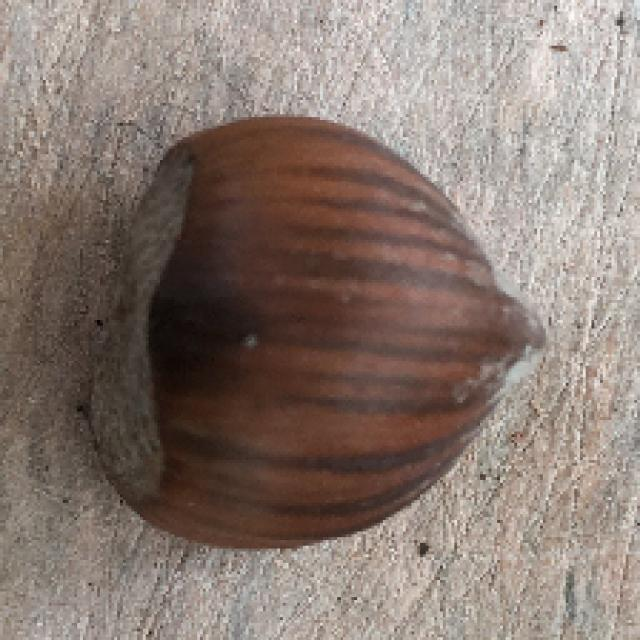qualityHazelnut: (79, 117, 546, 550)
